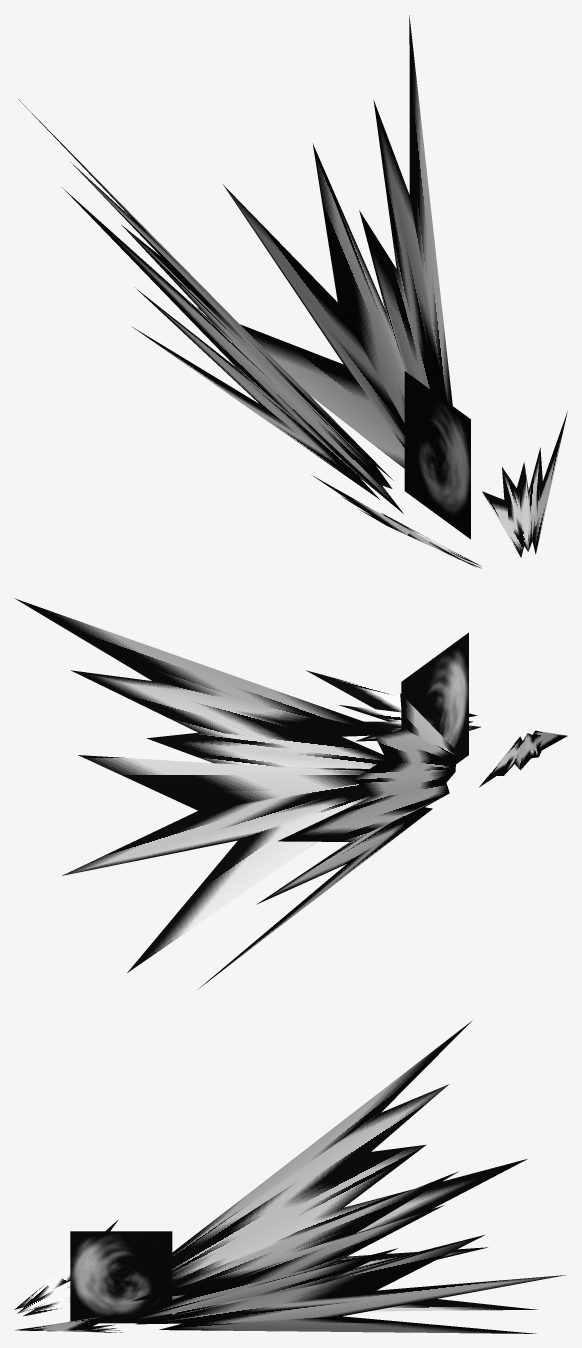
The model's file is EffCommonDashSmoke.obj.
The picture shows the model from 3 angles, top to bottom: view 1: azimuth 30°, elevation 25°; view 2: azimuth 150°, elevation 25°; view 3: azimuth 270°, elevation 25°; orthographic projection. The views are drawn at different scales.
Visible parts, largest first — view 1: polygon0, polygon2, polygon1; view 2: polygon0, polygon2, polygon1; view 3: polygon0, polygon2, polygon1.
Boxes of the visible parts, x1,y1,x2,y2 form: polygon0: (18,15,452,513); polygon2: (404,371,470,539); polygon1: (312,411,567,568); polygon0: (14,598,462,989); polygon2: (401,632,468,764); polygon1: (306,670,567,787); polygon0: (127,1020,565,1333); polygon2: (70,1231,172,1323); polygon1: (14,1219,122,1332).
Size of the model in its own units: 13.46 by 10 by 21.76.
Materials: 3 (3 with a texture image).
